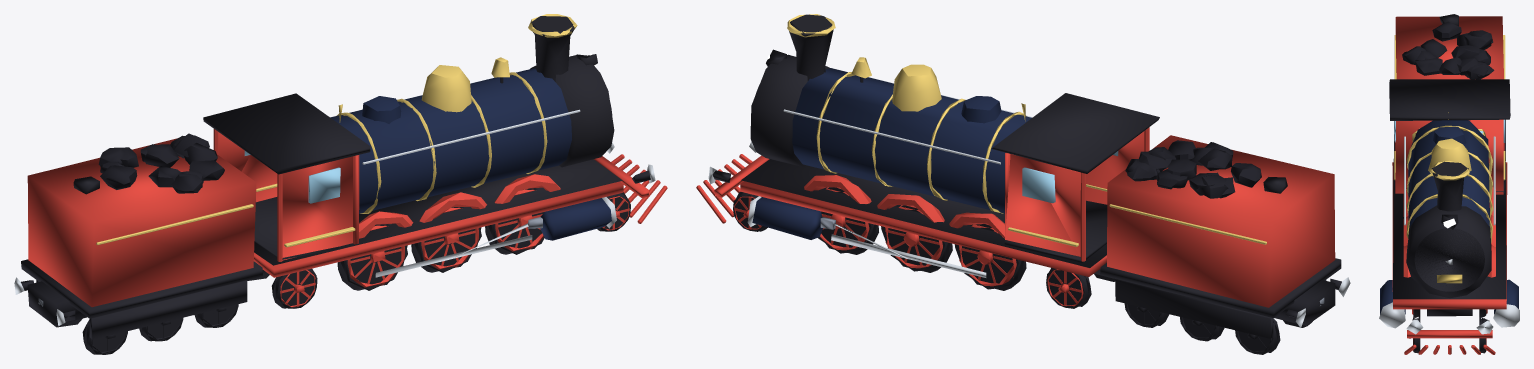
File: locomotive.glb
3 renders of one model, left to right at view 1: azimuth 30°, elevation 25°; view 2: azimuth 150°, elevation 25°; view 3: azimuth 270°, elevation 25°, orthographic. The views are drawn at different scales.
Parts seen in each view (by area): view 1: locomotive.002, tw-10.005 (×3), drv-10.002, drv-11.002, drv-12.002, trail-1.002, pony-1.002; view 2: locomotive.002, drv10.002, drv11.002, drv12.002, tw11.002 (×2), trail1.002, tw10.005, pony1.002; view 3: locomotive.002, pony1.002, pony-1.002.
Boxes of the visible parts, left/top/right/bottom form: locomotive.002: left=14, top=14, right=667, bottom=339; tw-10.005 (×3): left=82, top=304, right=238, bottom=354; drv-10.002: left=337, top=217, right=407, bottom=290; drv-11.002: left=411, top=200, right=481, bottom=272; drv-12.002: left=485, top=188, right=544, bottom=254; trail-1.002: left=271, top=268, right=317, bottom=308; pony-1.002: left=597, top=192, right=630, bottom=231; locomotive.002: left=696, top=14, right=1350, bottom=338; drv10.002: left=954, top=217, right=1026, bottom=290; drv11.002: left=881, top=199, right=952, bottom=272; drv12.002: left=818, top=181, right=878, bottom=254; tw11.002 (×2): left=1180, top=317, right=1280, bottom=354; trail1.002: left=1046, top=268, right=1091, bottom=308; tw10.005: left=1124, top=303, right=1169, bottom=327; pony1.002: left=733, top=191, right=767, bottom=231; locomotive.002: left=1379, top=14, right=1519, bottom=354; pony1.002: left=1479, top=317, right=1486, bottom=354; pony-1.002: left=1409, top=317, right=1420, bottom=354.
Size of the model in its own units: 13.17 by 4.2 by 3.21.
1 material, 1 textured.
